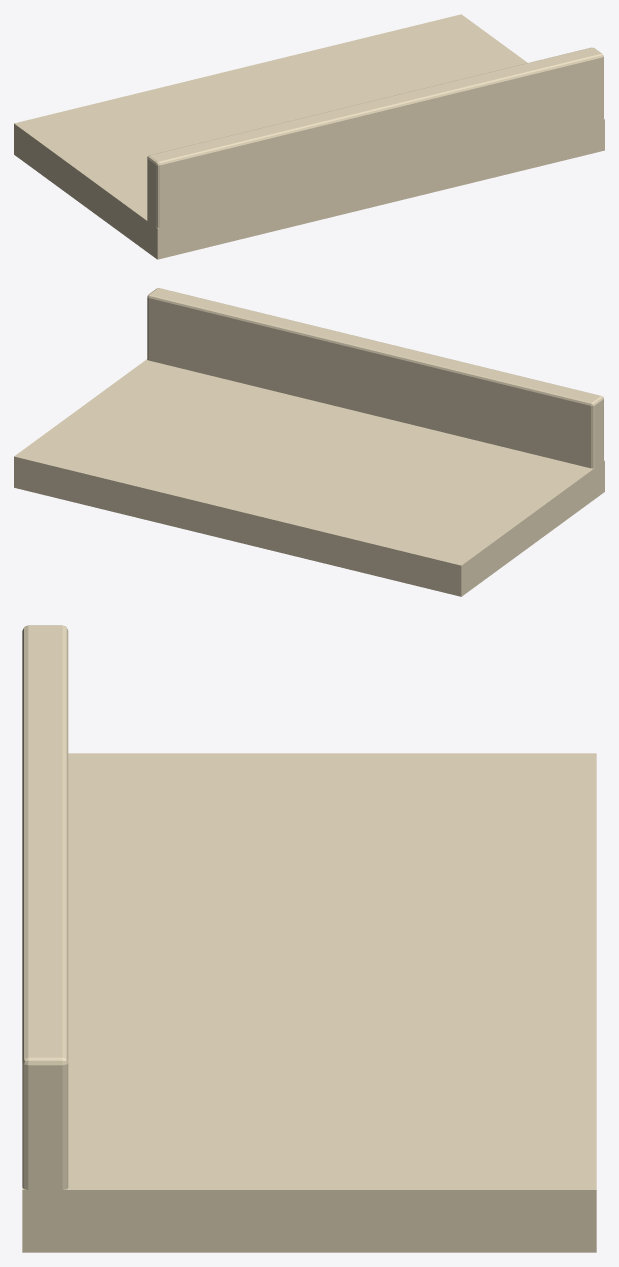
File: RoyalBox.fbx
3 views of the same model, one above another, from view 1: azimuth 30°, elevation 25°; view 2: azimuth 150°, elevation 25°; view 3: azimuth 270°, elevation 25° (orthographic). The views are drawn at different scales.
Parts seen in each view (by area): view 1: RoyalBoxFloor.001; view 2: RoyalBoxFloor.001; view 3: RoyalBoxFloor.001.
Part boxes in pixels (box(x1,y1,x2,y2)): RoyalBoxFloor.001: box(14, 14, 604, 259); RoyalBoxFloor.001: box(14, 288, 604, 596); RoyalBoxFloor.001: box(22, 625, 596, 1252).
Bounding box in the file's own units: 1800 × 370 × 1000.
